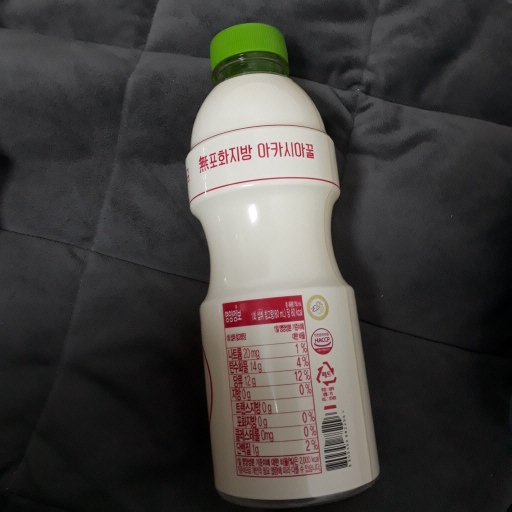Plastic_0: (177, 24, 380, 502)
